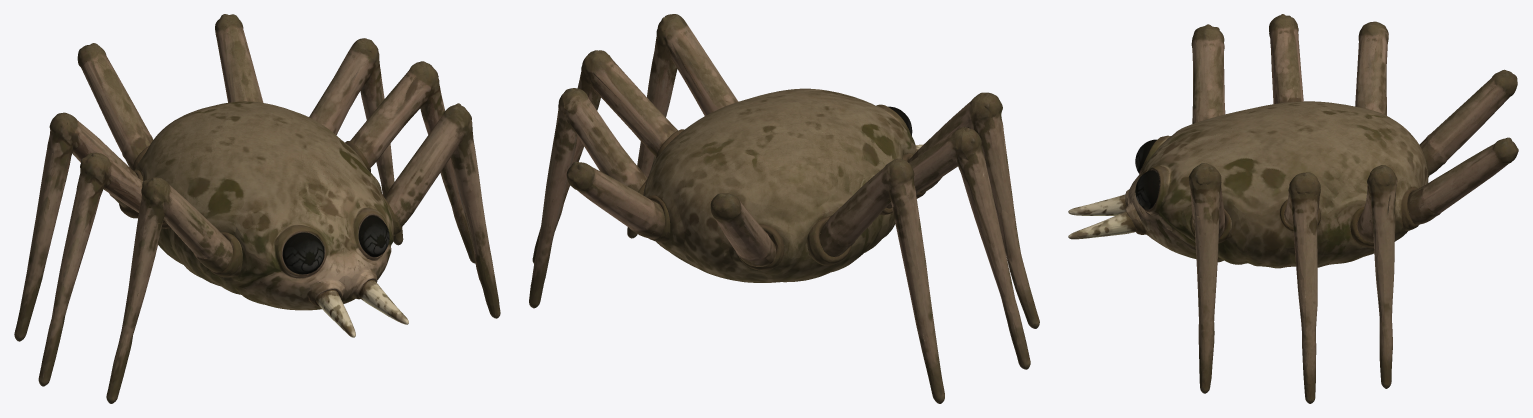
Rendered from crawler.glb.
The picture shows the model from 3 angles, left to right: view 1: azimuth 30°, elevation 25°; view 2: azimuth 150°, elevation 25°; view 3: azimuth 270°, elevation 25°; orthographic projection. The views are drawn at different scales.
Bounding box in the file's own units: 1.9 × 0.8886 × 1.71.
Materials: 1 (1 with a texture image).
